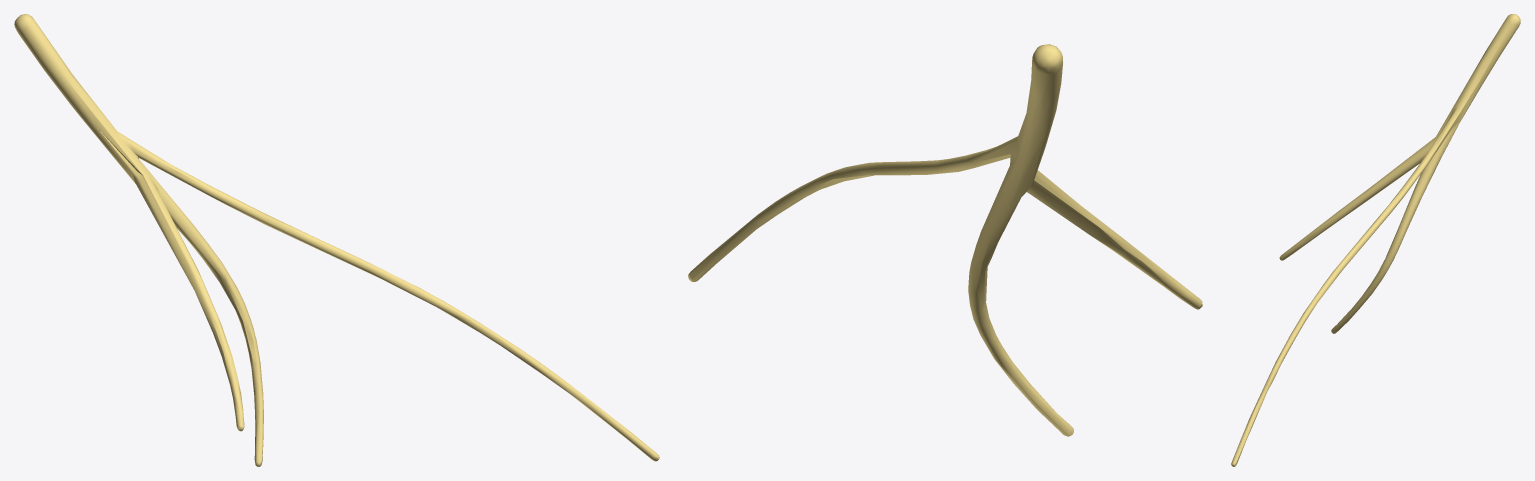
Rendered from fma53058_fj3960.glb.
3 renders of one model, left to right at view 1: azimuth 30°, elevation 25°; view 2: azimuth 150°, elevation 25°; view 3: azimuth 270°, elevation 25°, orthographic. The views are drawn at different scales.
Visible parts, largest first — view 1: FMA53058_FJ3960; view 2: FMA53058_FJ3960; view 3: FMA53058_FJ3960.
Boxes of the visible parts, left/top/right/bottom form: FMA53058_FJ3960: left=14, top=14, right=659, bottom=466; FMA53058_FJ3960: left=688, top=44, right=1202, bottom=436; FMA53058_FJ3960: left=1231, top=14, right=1520, bottom=466.
Bounding box in the file's own units: 0.0189 × 0.0165 × 0.0146.
